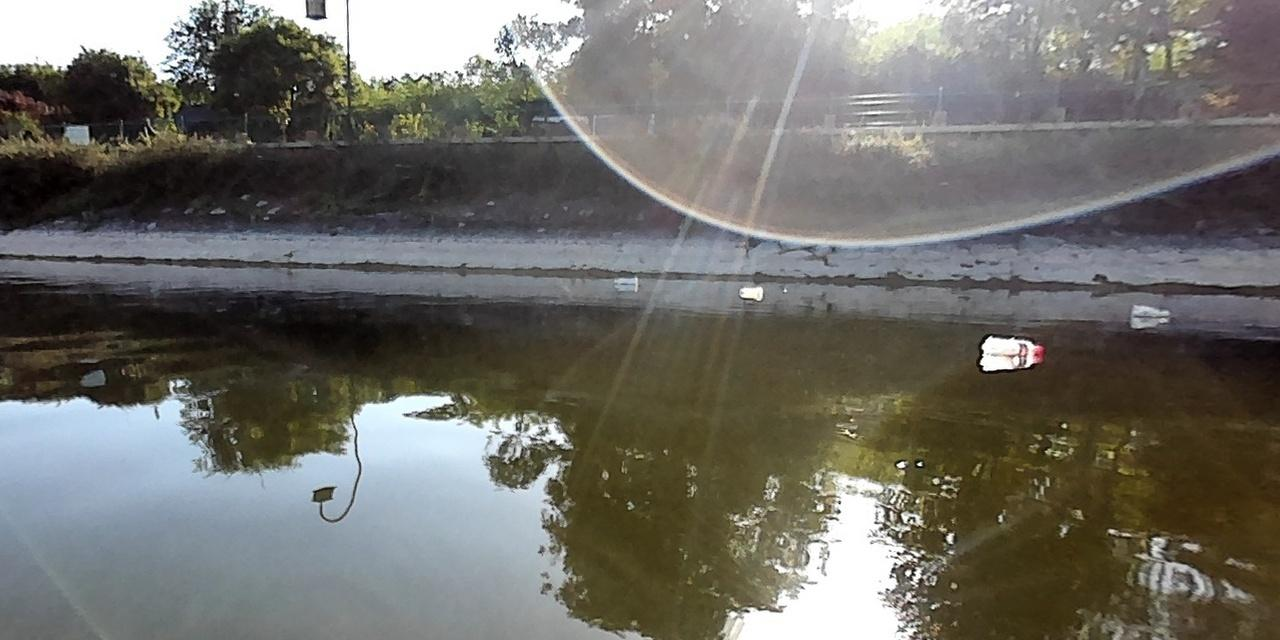bottle: (978, 332, 1045, 358), (1127, 302, 1171, 321), (736, 282, 765, 298), (610, 275, 639, 286)
